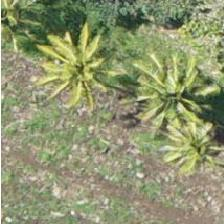coconut_tree: (120, 42, 210, 132), (27, 26, 117, 116), (145, 102, 223, 192), (0, 0, 58, 61)
